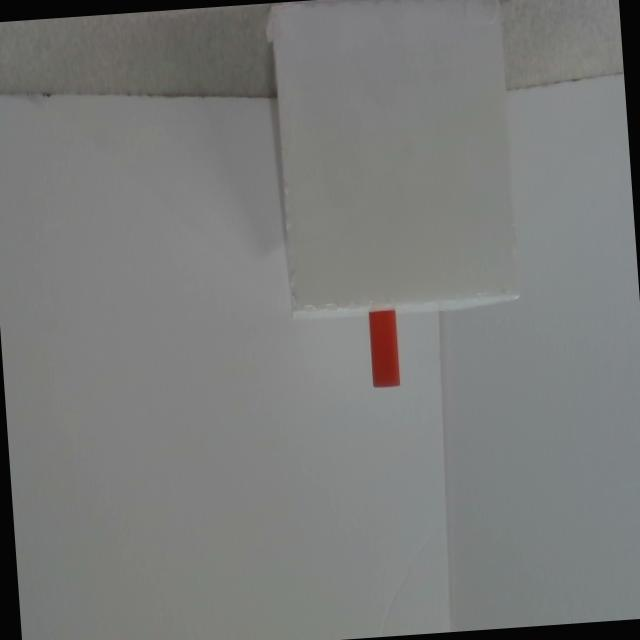red_cylinder: (368, 309, 400, 388)
